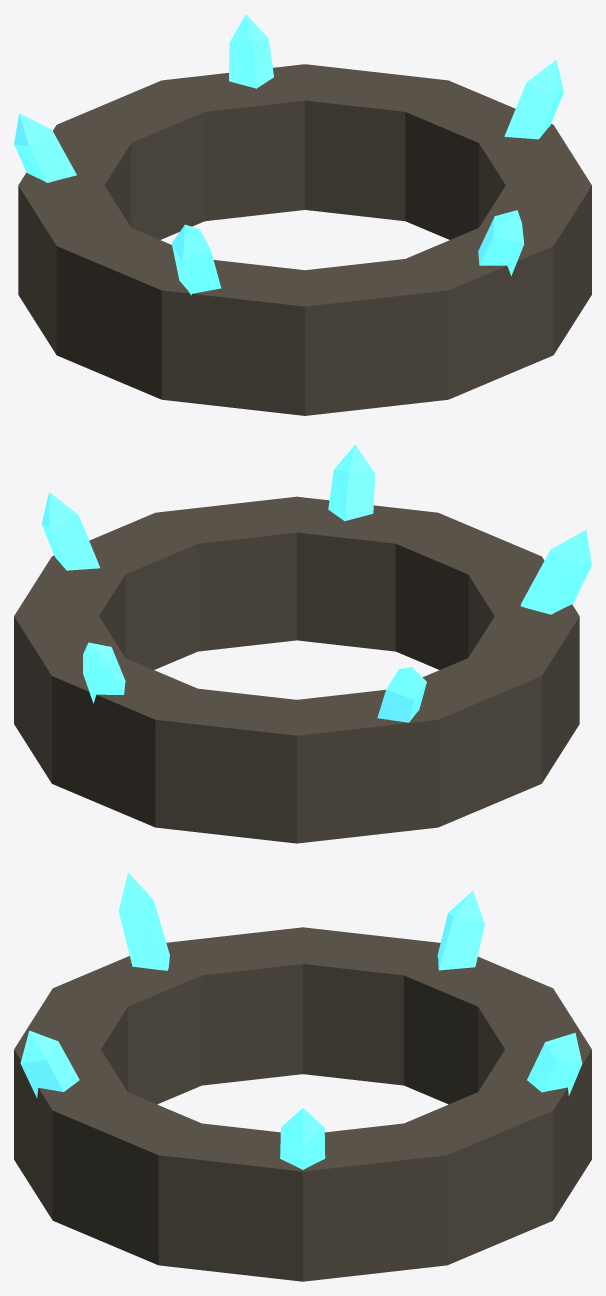
Rendered from dc_stone_collar.glb.
3 renders of one model, top to bottom at view 1: azimuth 30°, elevation 25°; view 2: azimuth 150°, elevation 25°; view 3: azimuth 270°, elevation 25°, orthographic. The views are drawn at different scales.
Parts seen in each view (by area): view 1: part.dc_stone_collar; view 2: part.dc_stone_collar; view 3: part.dc_stone_collar.
Part boxes in pixels (x1,y1,x2,y2): part.dc_stone_collar: (14, 14, 591, 415); part.dc_stone_collar: (14, 444, 591, 843); part.dc_stone_collar: (14, 872, 591, 1281).
Size of the model in its own units: 0.7209 by 0.2502 by 0.7061.
